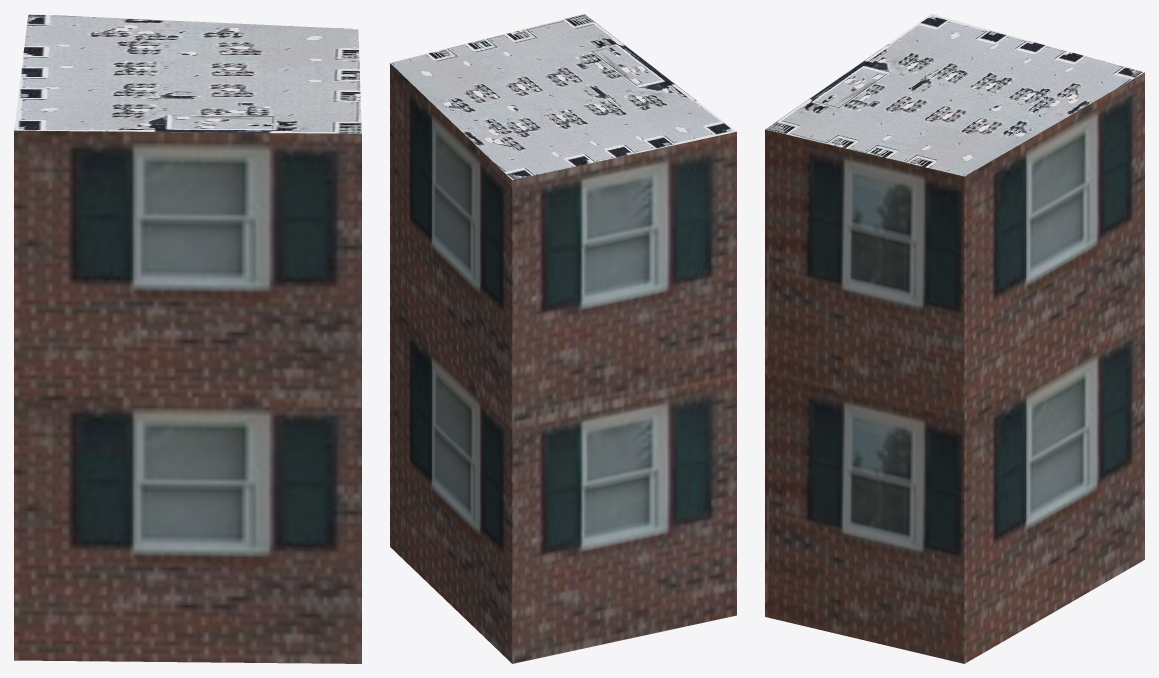
File: ResTex__4559.fbx
3 renders of one model, left to right at view 1: azimuth 30°, elevation 25°; view 2: azimuth 150°, elevation 25°; view 3: azimuth 270°, elevation 25°, orthographic. The views are drawn at different scales.
Parts seen in each view (by area): view 1: CityEngineMaterial_14_m, CityEngineMaterial_8_m; view 2: CityEngineMaterial_14_m, CityEngineMaterial_8_m; view 3: CityEngineMaterial_14_m, CityEngineMaterial_8_m.
Boxes of the visible parts, x1,y1,x2,y2 form: CityEngineMaterial_14_m: [14, 130, 361, 663]; CityEngineMaterial_8_m: [14, 14, 361, 133]; CityEngineMaterial_14_m: [390, 63, 736, 663]; CityEngineMaterial_8_m: [390, 14, 736, 179]; CityEngineMaterial_14_m: [765, 72, 1144, 663]; CityEngineMaterial_8_m: [765, 14, 1144, 176].
Bounding box in the file's own units: 4.29 × 6 × 4.24.
2 materials, 2 textured.
